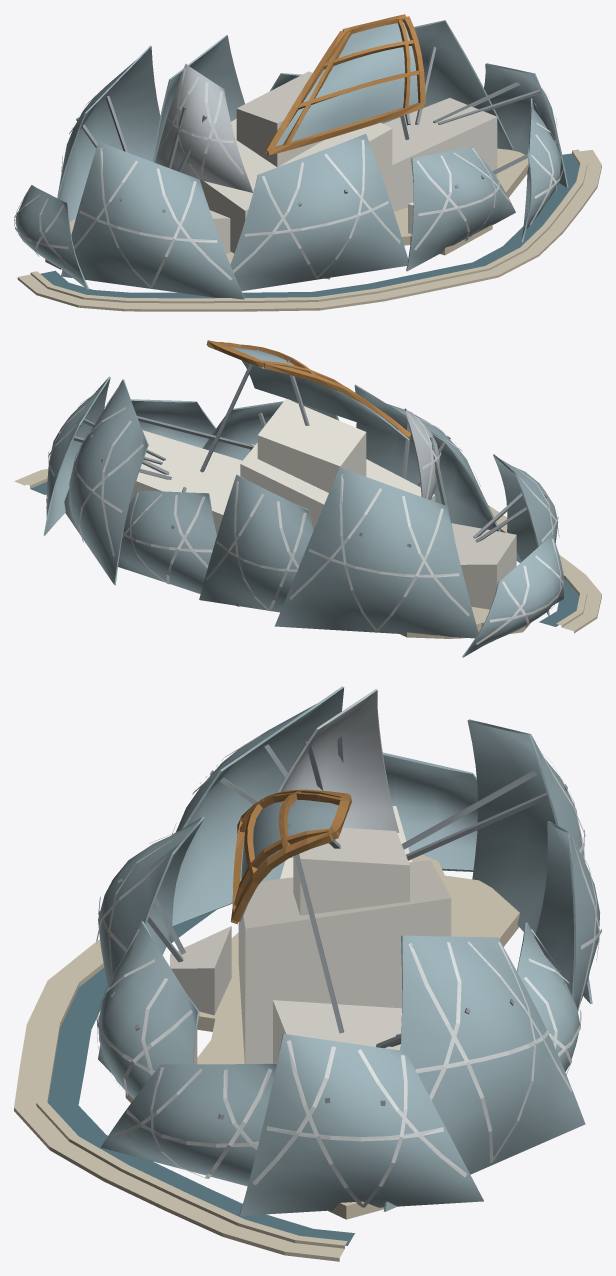
File: fondation-louis-vuitton-far.glb
3 views of the same model, one above another, from view 1: azimuth 30°, elevation 25°; view 2: azimuth 150°, elevation 25°; view 3: azimuth 270°, elevation 25° (orthographic). The views are drawn at different scales.
Visible parts, largest first — view 1: fondation-louis-vuitton-0-glass, fondation-louis-vuitton-0-ice, fondation-louis-vuitton-0-stone, fondation-louis-vuitton-0-frame, fondation-louis-vuitton-0-metal, fondation-louis-vuitton-0-timber, fondation-louis-vuitton-0-water, fondation-louis-vuitton-0-steel; view 2: fondation-louis-vuitton-0-glass, fondation-louis-vuitton-0-ice, fondation-louis-vuitton-0-frame, fondation-louis-vuitton-0-steel, fondation-louis-vuitton-0-stone, fondation-louis-vuitton-0-timber, fondation-louis-vuitton-0-metal, fondation-louis-vuitton-0-water; view 3: fondation-louis-vuitton-0-glass, fondation-louis-vuitton-0-ice, fondation-louis-vuitton-0-stone, fondation-louis-vuitton-0-frame, fondation-louis-vuitton-0-water, fondation-louis-vuitton-0-metal, fondation-louis-vuitton-0-timber, fondation-louis-vuitton-0-steel.
Boxes of the visible parts, left/top/right/bottom form: fondation-louis-vuitton-0-glass: left=15, top=20, right=568, bottom=299; fondation-louis-vuitton-0-ice: left=200, top=71, right=497, bottom=253; fondation-louis-vuitton-0-stone: left=17, top=148, right=601, bottom=311; fondation-louis-vuitton-0-frame: left=14, top=68, right=563, bottom=287; fondation-louis-vuitton-0-metal: left=155, top=63, right=253, bottom=192; fondation-louis-vuitton-0-timber: left=265, top=14, right=425, bottom=155; fondation-louis-vuitton-0-water: left=40, top=153, right=579, bottom=298; fondation-louis-vuitton-0-steel: left=76, top=44, right=556, bottom=213; fondation-louis-vuitton-0-glass: left=43, top=346, right=563, bottom=657; fondation-louis-vuitton-0-ice: left=129, top=398, right=516, bottom=609; fondation-louis-vuitton-0-frame: left=46, top=385, right=564, bottom=644; fondation-louis-vuitton-0-steel: left=58, top=349, right=546, bottom=547; fondation-louis-vuitton-0-stone: left=14, top=469, right=601, bottom=638; fondation-louis-vuitton-0-timber: left=206, top=340, right=411, bottom=440; fondation-louis-vuitton-0-metal: left=404, top=408, right=439, bottom=500; fondation-louis-vuitton-0-water: left=30, top=482, right=579, bottom=626; fondation-louis-vuitton-0-glass: left=98, top=686, right=600, bottom=1215; fondation-louis-vuitton-0-ice: left=170, top=806, right=451, bottom=1064; fondation-louis-vuitton-0-stone: left=14, top=854, right=519, bottom=1261; fondation-louis-vuitton-0-frame: left=96, top=732, right=601, bottom=1207; fondation-louis-vuitton-0-water: left=48, top=910, right=354, bottom=1245; fondation-louis-vuitton-0-metal: left=277, top=689, right=399, bottom=857; fondation-louis-vuitton-0-timber: left=230, top=789, right=351, bottom=924; fondation-louis-vuitton-0-steel: left=110, top=735, right=567, bottom=1119.
Size of the model in its own units: 147 by 46.14 by 85.7.
